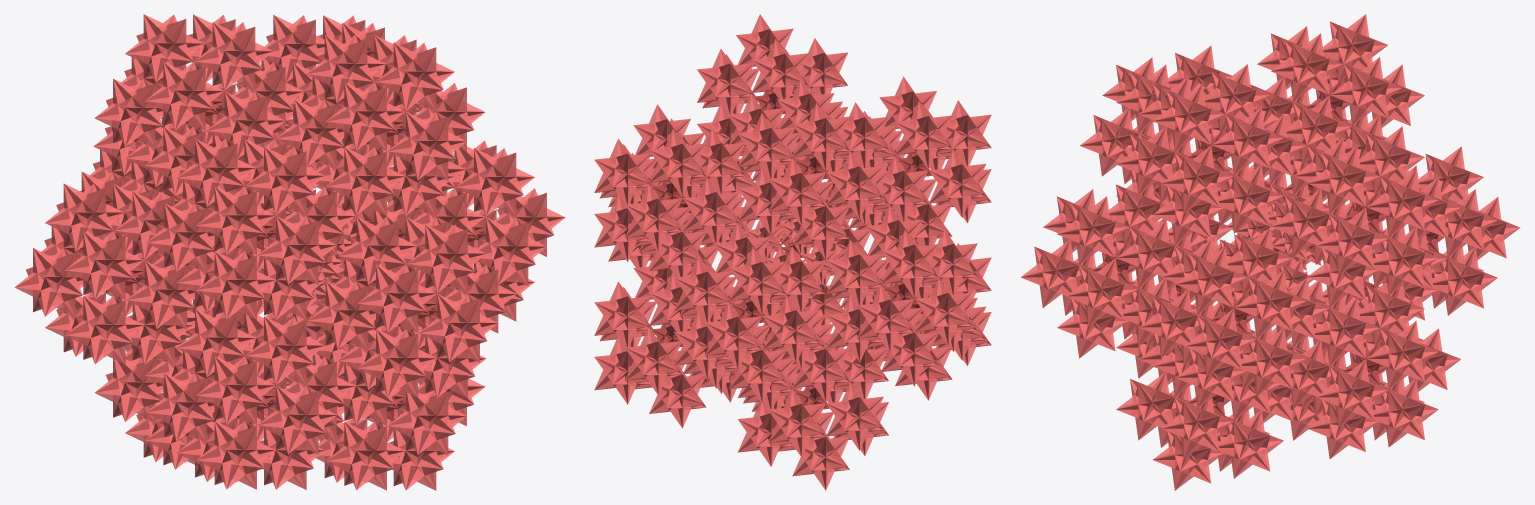
File: fractalgreaticosahedron2.glb
3 views of the same model, side by side, from view 1: azimuth 30°, elevation 25°; view 2: azimuth 150°, elevation 25°; view 3: azimuth 270°, elevation 25° (orthographic). The views are drawn at different scales.
Bounding box in the file's own units: 12.01 × 10.49 × 12.01.
